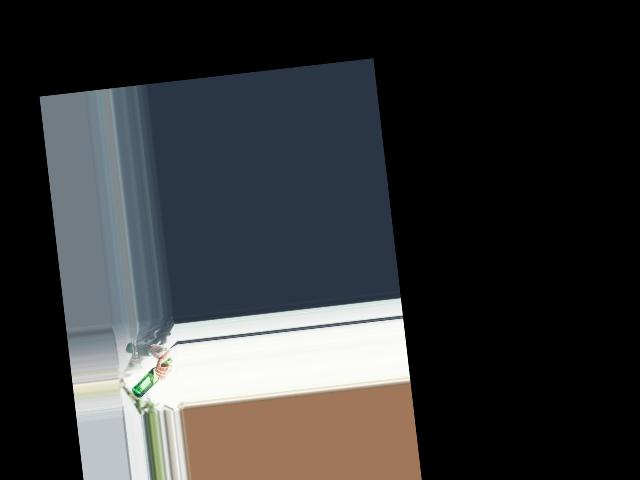beer: (128, 356, 175, 398)
